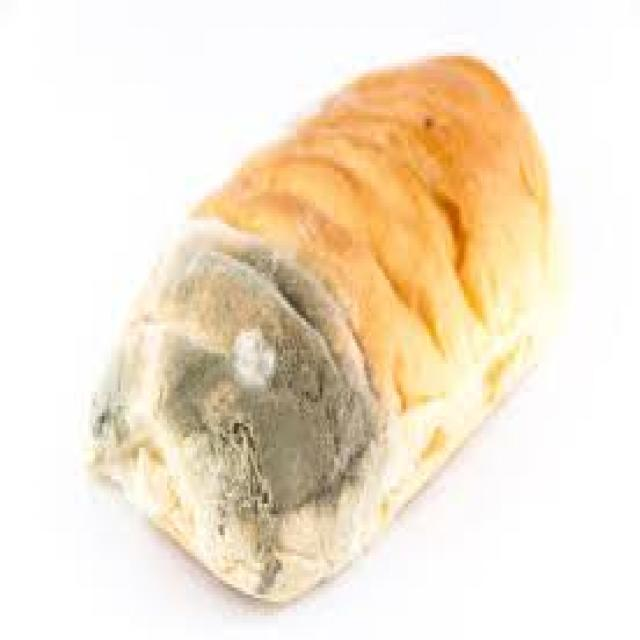organic waste: (86, 49, 550, 598)
